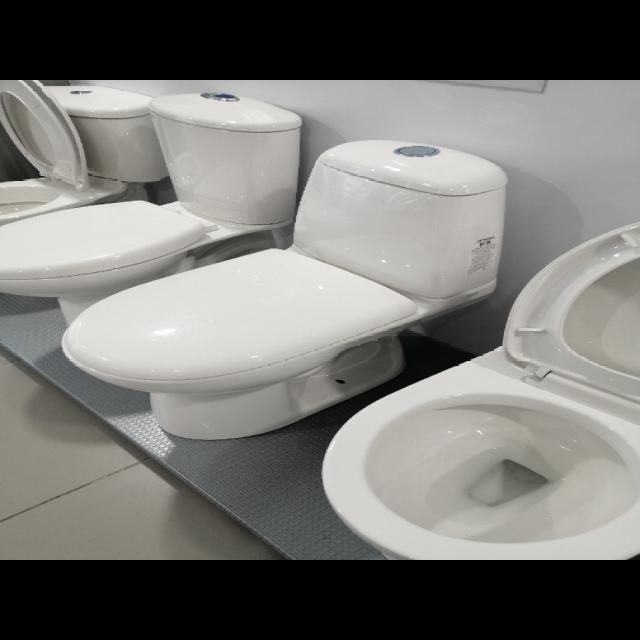toilet: (60, 139, 508, 440), (320, 221, 639, 560), (0, 90, 302, 326), (0, 80, 169, 226)
